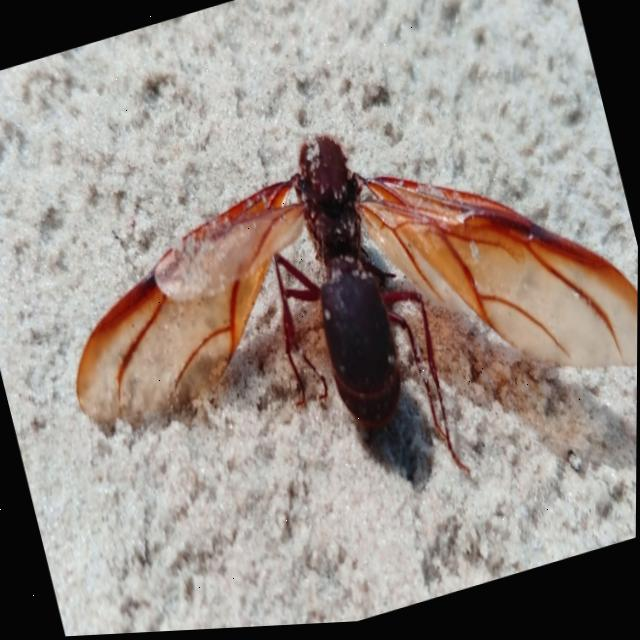Dead-Female-Alate: (31, 57, 640, 586)
